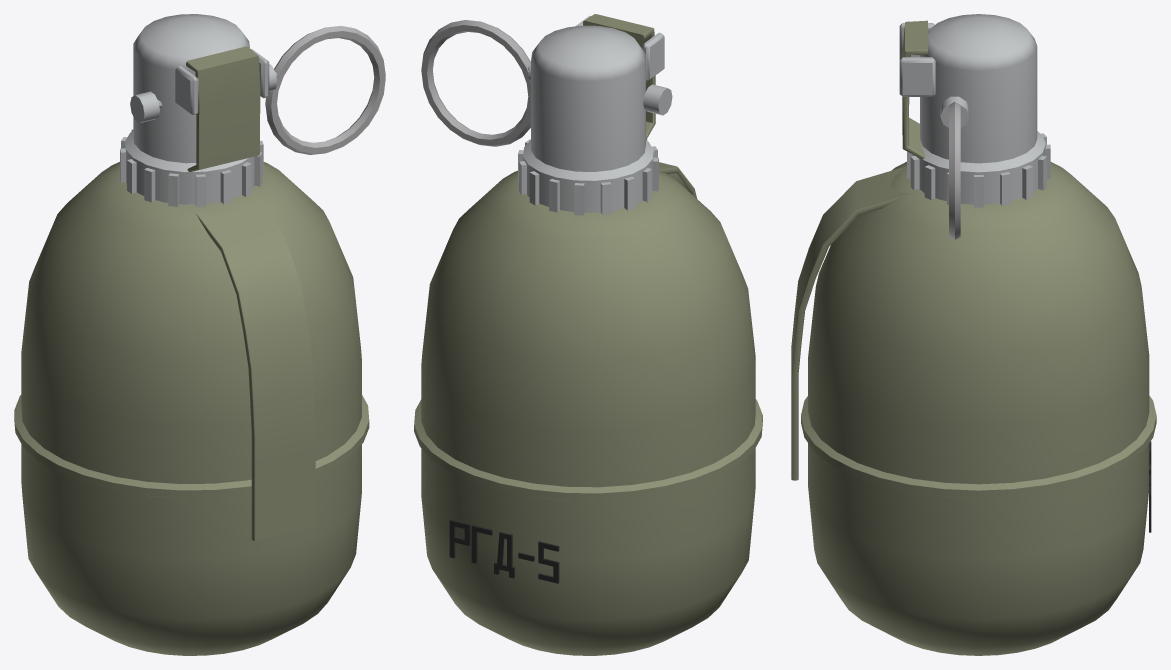
File: rgd5.glb
3 views of the same model, side by side, from view 1: azimuth 30°, elevation 25°; view 2: azimuth 150°, elevation 25°; view 3: azimuth 270°, elevation 25° (orthographic).
Visible parts, largest first — view 1: body, spoon, pin; view 2: body, pin, spoon; view 3: body, spoon, pin.
Boxes of the visible parts, <box> form: body: <box>14,14,369,655</box>; spoon: <box>186,46,315,540</box>; pin: <box>158,26,385,154</box>; body: <box>414,16,762,655</box>; pin: <box>421,20,530,146</box>; spoon: <box>583,14,697,198</box>; body: <box>801,14,1156,655</box>; spoon: <box>791,20,927,480</box>; pin: <box>949,102,960,239</box>.
Size of the model in its own units: 0.0648 by 0.1107 by 0.061.
